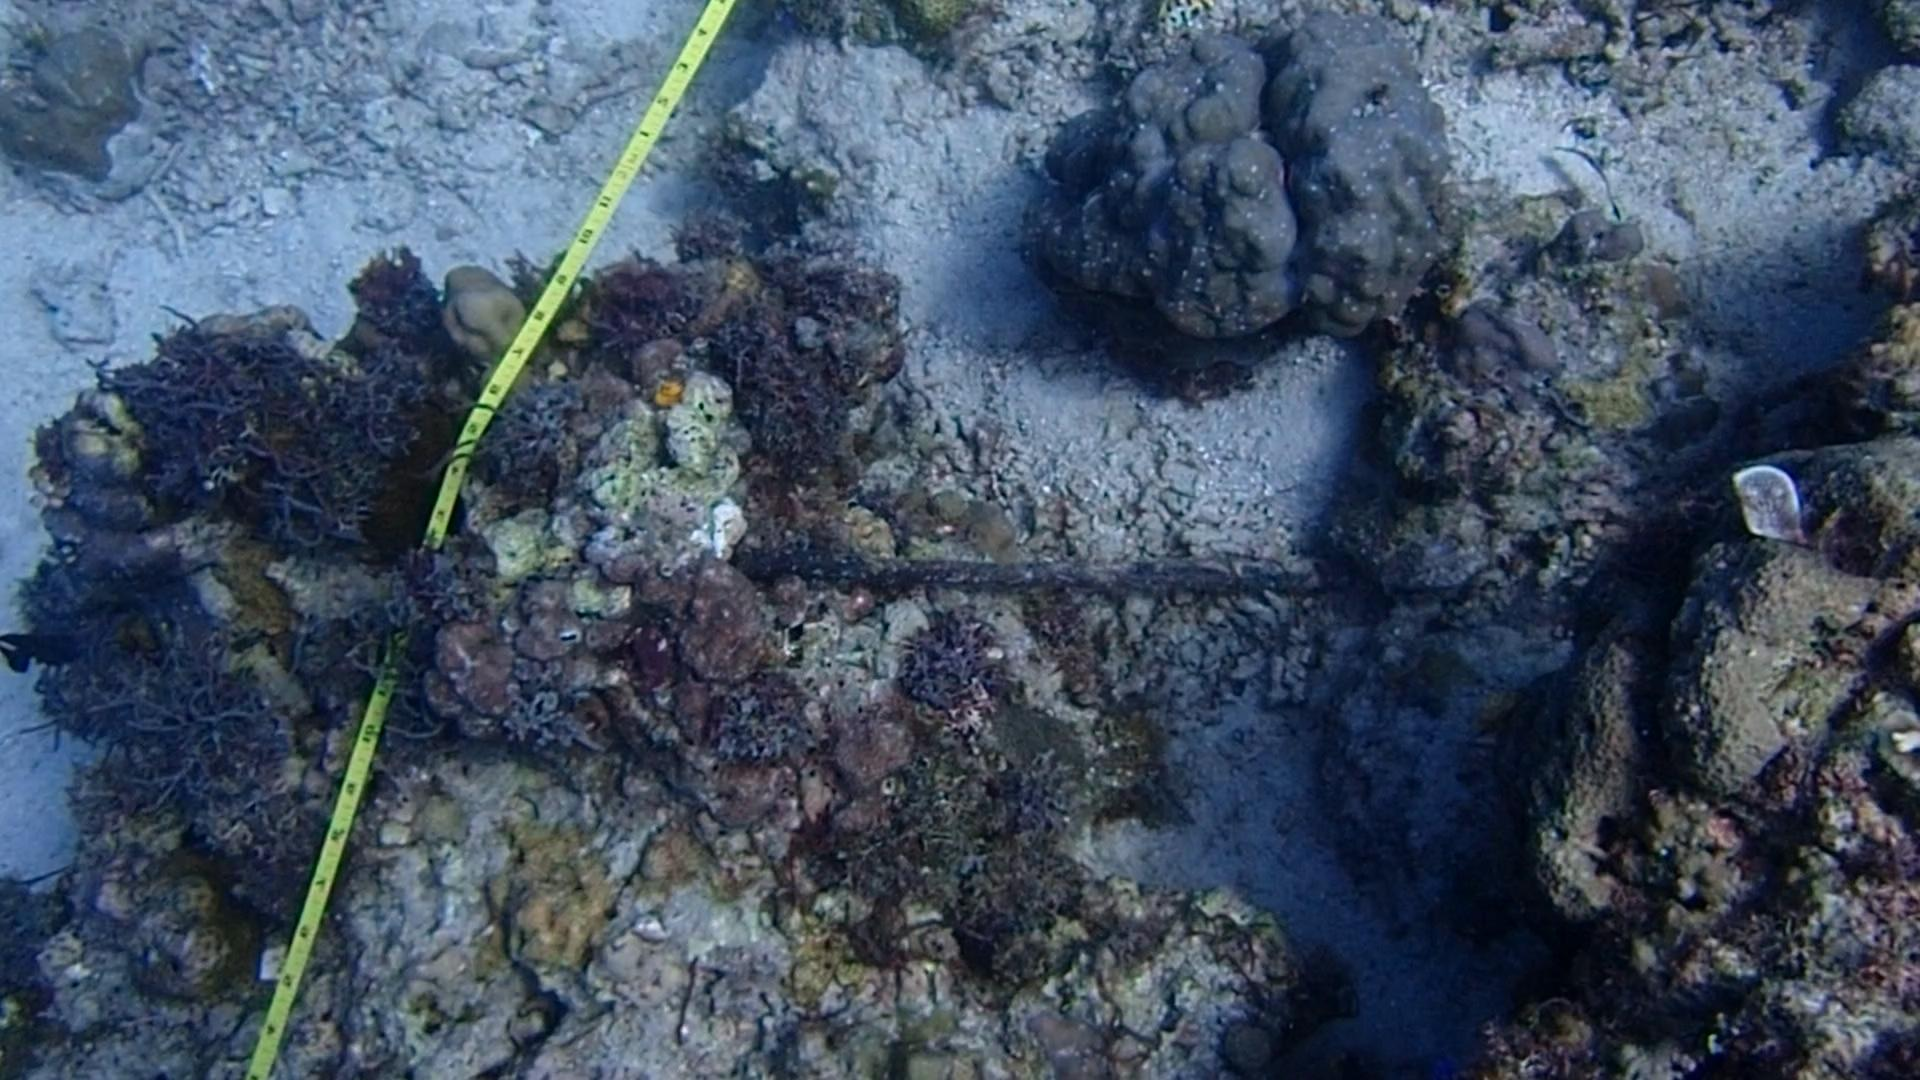Dark Fish: (0, 616, 99, 688)
